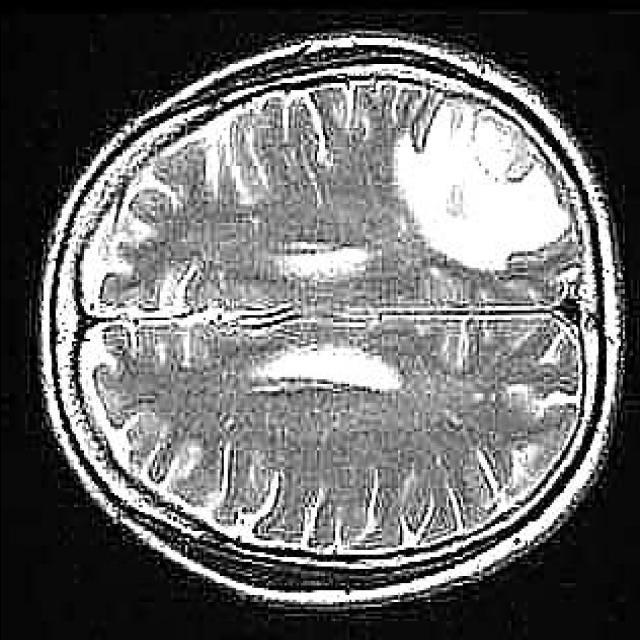tumor: (391, 92, 583, 289)
